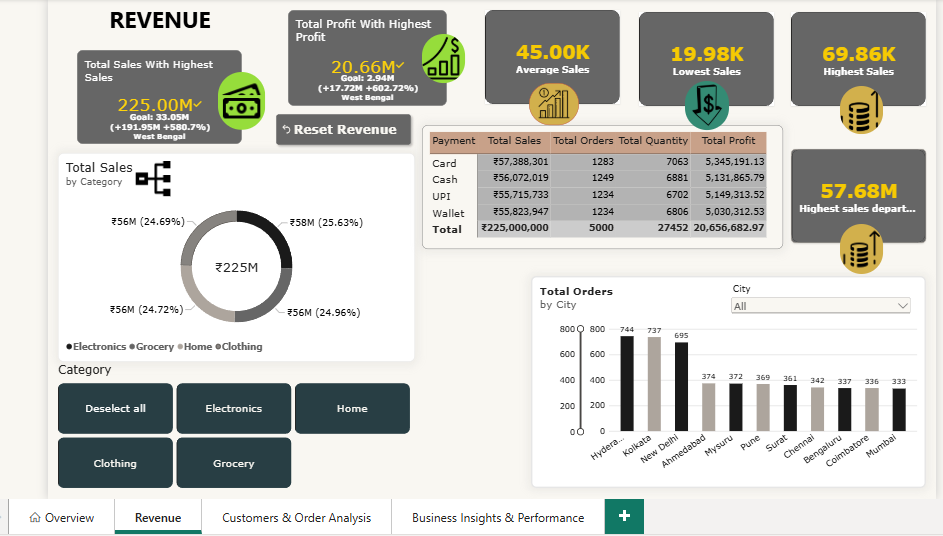

The dashboard page shown, as its layout file describes it:
{"tool":"powerbi","page":{"name":"Revenue","canvas":[1920,1080],"ordinal":1},"visuals":[{"type":"cardVisual","fields":{"Data":["Sheet.Average Sales"]},"box":[943.9,23.8,291.6,203],"z":0},{"type":"cardVisual","fields":{"Data":["Sheet.Lowest Sales"]},"box":[1276.6,28.1,291.6,203],"z":1000},{"type":"cardVisual","fields":{"Data":["Sheet.Highest Sales"]},"box":[1604.9,28.1,291.6,203],"z":2000},{"type":"donutChart","fields":{"Category":["Sheet.Category"],"Y":["Sheet.Total Sales"]},"box":[21.6,332.6,771.1,451.4],"z":3000},{"type":"cardVisual","title":"Cash","fields":{"Data":["Sheet.Highest sales department"]},"box":[1604.9,324,291.6,203],"z":4000},{"type":"clusteredColumnChart","fields":{"Category":["Sheet.City"],"Y":["Sheet.Total Orders"]},"box":[1043.3,598.3,853.2,457.9],"z":5000},{"type":"kpi","title":"Total Sales With Highest Sales","fields":{"Goal":["Sum(Sheet.Amount)"],"Indicator":["Sheet.state calculate"],"TrendLine":["Sheet.State"]},"box":[62.6,110.2,356.4,203],"z":6000},{"type":"kpi","title":"Total Profit With Highest Profit","fields":{"Goal":["Sum(Sheet.Profit)"],"Indicator":["Sheet.total profits"],"TrendLine":["Sheet.State"]},"box":[518.4,23.8,343.4,207.4],"z":7000},{"type":"pivotTable","fields":{"Rows":["Sheet.Payment"],"Values":["Sheet.Total Sales","Sheet.Total Orders","Sheet.Total Quantity","Sheet.Total Profit"]},"box":[807.8,272.2,779.8,267.8],"z":8000},{"type":"shape","box":[0,0,483.8,84.2],"z":9000},{"type":"image","box":[1710.7,187.9,92.9,103.7],"z":10000},{"type":"image","box":[181.4,349.9,90.7,75.6],"z":11000},{"type":"image","box":[1375.9,177.1,95,105.8],"z":12000},{"type":"image","box":[1039,181.4,108,90.7],"z":13000},{"type":"image","box":[1710.7,486,92.9,108],"z":14000},{"type":"image","box":[807.8,75.6,92.9,105.8],"z":15000},{"type":"image","box":[367.2,157.7,101.5,125.3],"z":16000},{"type":"advancedSlicerVisual","fields":{"Values":["Sheet.Category"]},"box":[21.6,784.1,1017.4,272.2],"z":17000},{"type":"actionButton","box":[483.8,239.8,308.9,84.2],"z":18000},{"type":"slicer","fields":{"Values":["Sheet.City"]},"box":[1471,613.4,397.4,92.9],"z":19000}]}

Visuals, with their boxes on the page's 1920x1080 design canvas (x1, y1, x2, y2). These are canvas units, not pixel positions in the 943x536 screenshot, which may show the page scaled, cropped or inside an application window:
cardVisual - Sheet.Average Sales: 944, 24, 1236, 227
cardVisual - Sheet.Lowest Sales: 1277, 28, 1568, 231
cardVisual - Sheet.Highest Sales: 1605, 28, 1896, 231
donutChart - Sheet.Category x Sheet.Total Sales: 22, 333, 793, 784
"Cash" cardVisual: 1605, 324, 1896, 527
clusteredColumnChart - Sheet.City x Sheet.Total Orders: 1043, 598, 1896, 1056
"Total Sales With Highest Sales" kpi: 63, 110, 419, 313
"Total Profit With Highest Profit" kpi: 518, 24, 862, 231
pivotTable - Sheet.Payment x Sheet.Total Sales: 808, 272, 1588, 540
shape: 0, 0, 484, 84
image: 1711, 188, 1804, 292
image: 181, 350, 272, 426
image: 1376, 177, 1471, 283
image: 1039, 181, 1147, 272
image: 1711, 486, 1804, 594
image: 808, 76, 901, 181
image: 367, 158, 469, 283
advancedSlicerVisual - Sheet.Category: 22, 784, 1039, 1056
actionButton: 484, 240, 793, 324
slicer - Sheet.City: 1471, 613, 1868, 706
